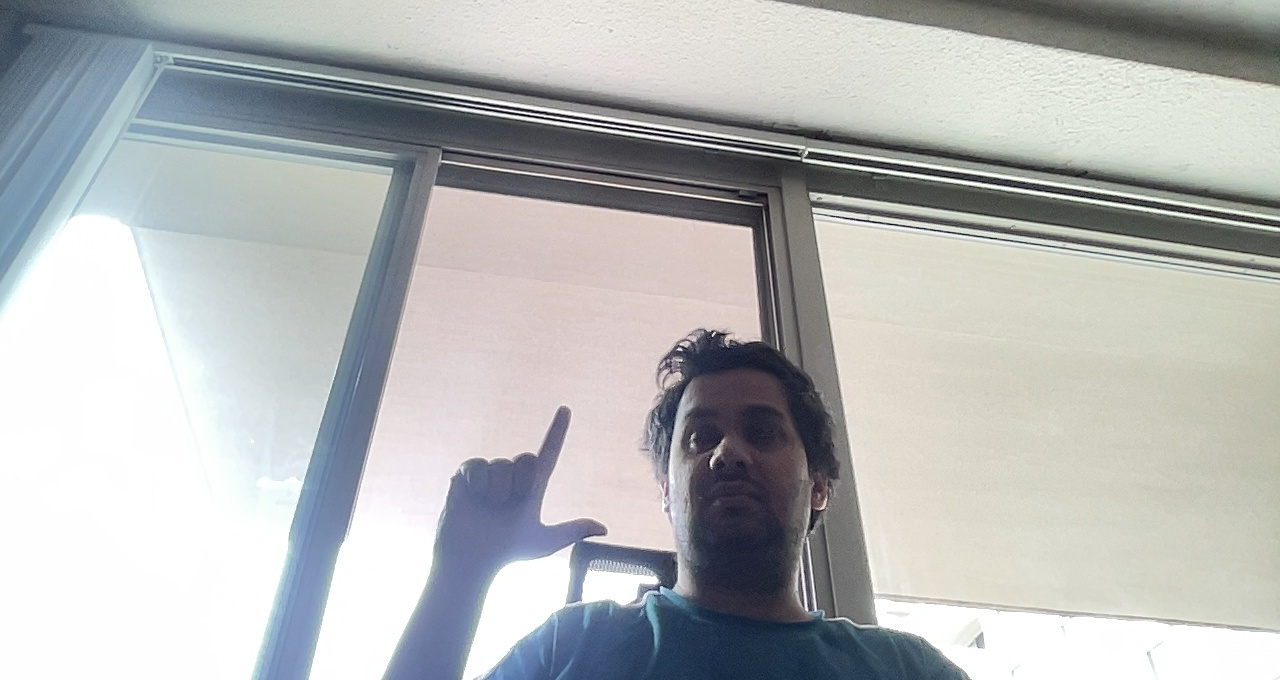L: (426, 398, 613, 574)
